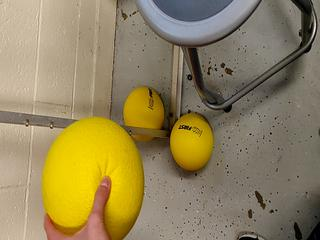power_cell: (39, 108, 145, 239), (171, 110, 214, 174), (122, 83, 165, 147)
